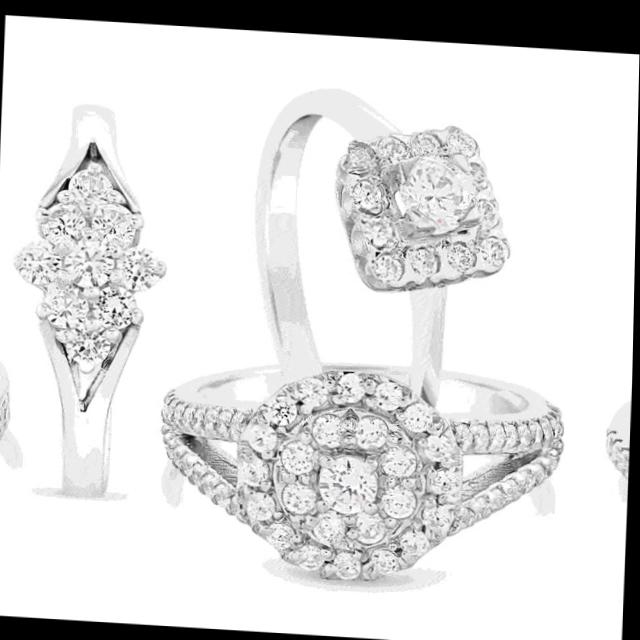Ring: (155, 338, 574, 604), (239, 68, 520, 416), (1, 84, 180, 523)
